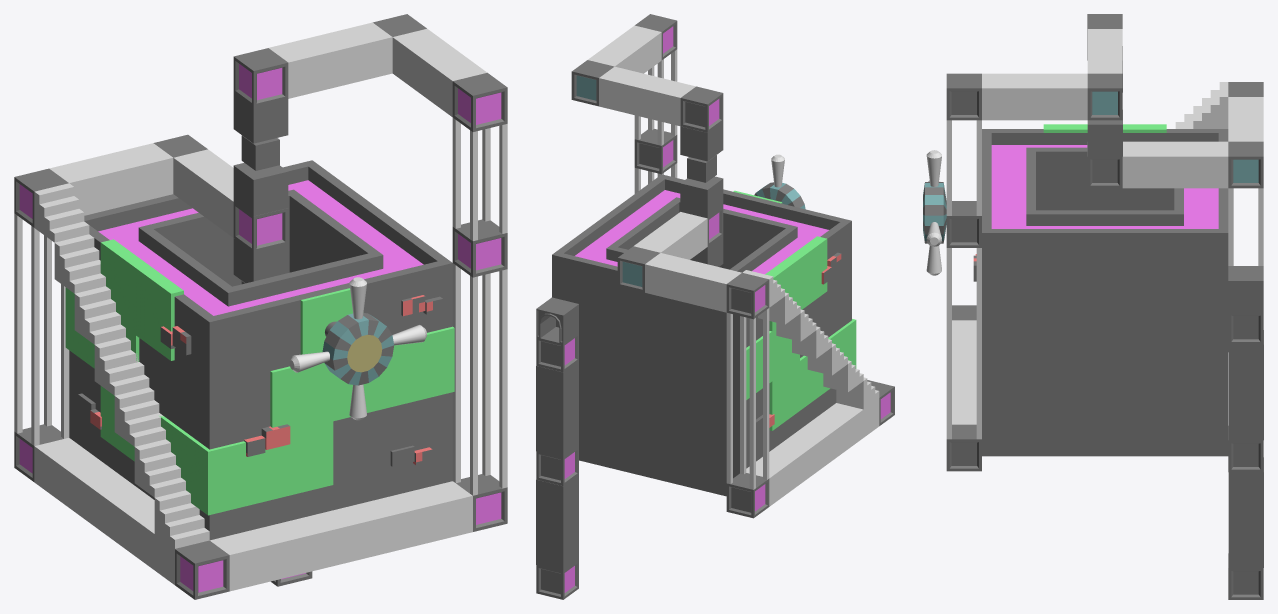
The model's file is Re_Stage3.fbx.
The picture shows the model from 3 angles, left to right: view 1: azimuth 30°, elevation 25°; view 2: azimuth 150°, elevation 25°; view 3: azimuth 270°, elevation 25°; orthographic projection. The views are drawn at different scales.
Visible parts, largest first — view 1: Box014, Basic008, 4Legs003, 4Legs004, Cylinder001, 4Legs002, Plane001, Basic012, Object011, Object008, Object010, Object024 (+36 smaller); view 2: Box014, Sex, Basic008, 4Legs004, Object009, Basic012, Object010, Door, Object019, Object021, Object015, Object013 (+28 smaller); view 3: Box014, Sex, Basic008, 4Legs003, Object015, Object022, Object011, Object016, Object017, Object021, Object023, Box012 (+16 smaller).
Part boxes in pixels (bbox=[...]): Box014: bbox=[65, 160, 454, 540]; Basic008: bbox=[233, 48, 288, 284]; 4Legs003: bbox=[452, 263, 507, 495]; 4Legs004: bbox=[14, 213, 69, 445]; Cylinder001: bbox=[322, 313, 394, 385]; 4Legs002: bbox=[452, 118, 507, 240]; Plane001: bbox=[78, 295, 442, 466]; Basic012: bbox=[14, 424, 507, 531]; Object011: bbox=[452, 72, 507, 131]; Object008: bbox=[175, 540, 229, 599]; Object010: bbox=[452, 219, 507, 277]; Object024: bbox=[34, 183, 89, 242]; Box014: bbox=[552, 174, 856, 496]; Sex: bbox=[536, 327, 578, 599]; Basic008: bbox=[680, 86, 723, 266]; 4Legs004: bbox=[726, 308, 769, 489]; Object009: bbox=[726, 272, 769, 319]; Basic012: bbox=[726, 473, 769, 518]; Object010: bbox=[634, 129, 677, 174]; Door: bbox=[536, 297, 578, 343]; Object019: bbox=[626, 73, 668, 119]; Object021: bbox=[571, 60, 614, 106]; Object015: bbox=[617, 246, 660, 292]; Object013: bbox=[672, 259, 714, 305]; Box014: bbox=[982, 124, 1228, 456]; Sex: bbox=[1228, 312, 1263, 599]; Basic008: bbox=[1087, 14, 1122, 210]; 4Legs003: bbox=[946, 248, 981, 439]; Object015: bbox=[1228, 141, 1263, 188]; Object022: bbox=[1052, 73, 1087, 120]; Object011: bbox=[946, 73, 981, 120]; Object016: bbox=[1193, 141, 1228, 188]; Object017: bbox=[1158, 141, 1193, 188]; Object021: bbox=[1087, 73, 1122, 120]; Object023: bbox=[1017, 73, 1052, 120]; Box012: bbox=[1122, 141, 1157, 188].
Size of the model in its own units: 180 by 330 by 194.
